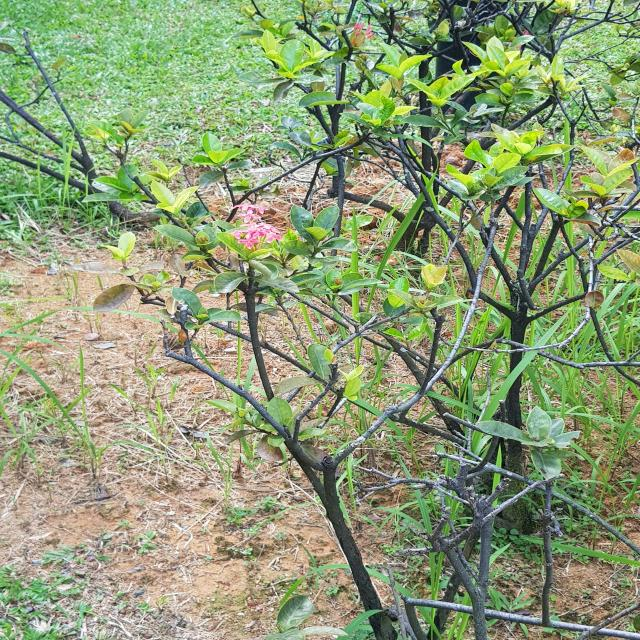Chinese-Ixora: (228, 202, 284, 252), (352, 22, 377, 47)
